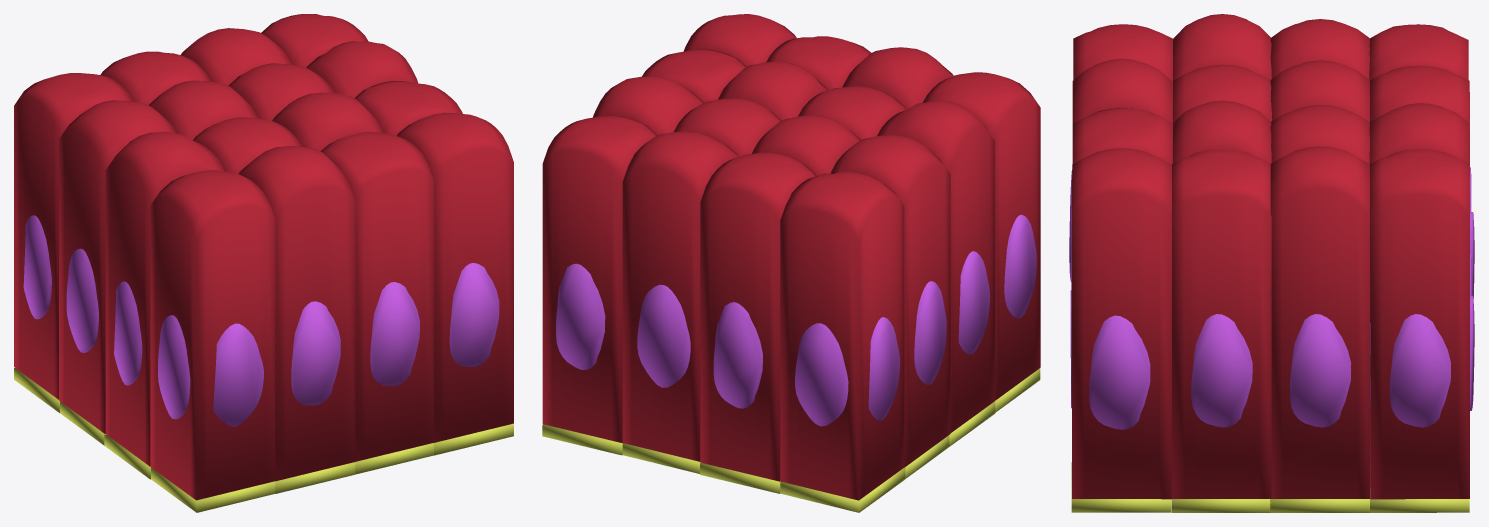
Rendered from Epithelial.gltf.
3 renders of one model, left to right at view 1: azimuth 30°, elevation 25°; view 2: azimuth 150°, elevation 25°; view 3: azimuth 270°, elevation 25°, orthographic. The views are drawn at different scales.
Visible parts, largest first — view 1: Cube.015; view 2: Cube.015; view 3: Cube.015.
Part boxes in pixels (x1,y1,x2,y2): Cube.015: [14, 14, 513, 512]; Cube.015: [542, 14, 1040, 512]; Cube.015: [1069, 14, 1474, 512].
Size of the model in its own units: 8.14 by 7.55 by 8.12.
